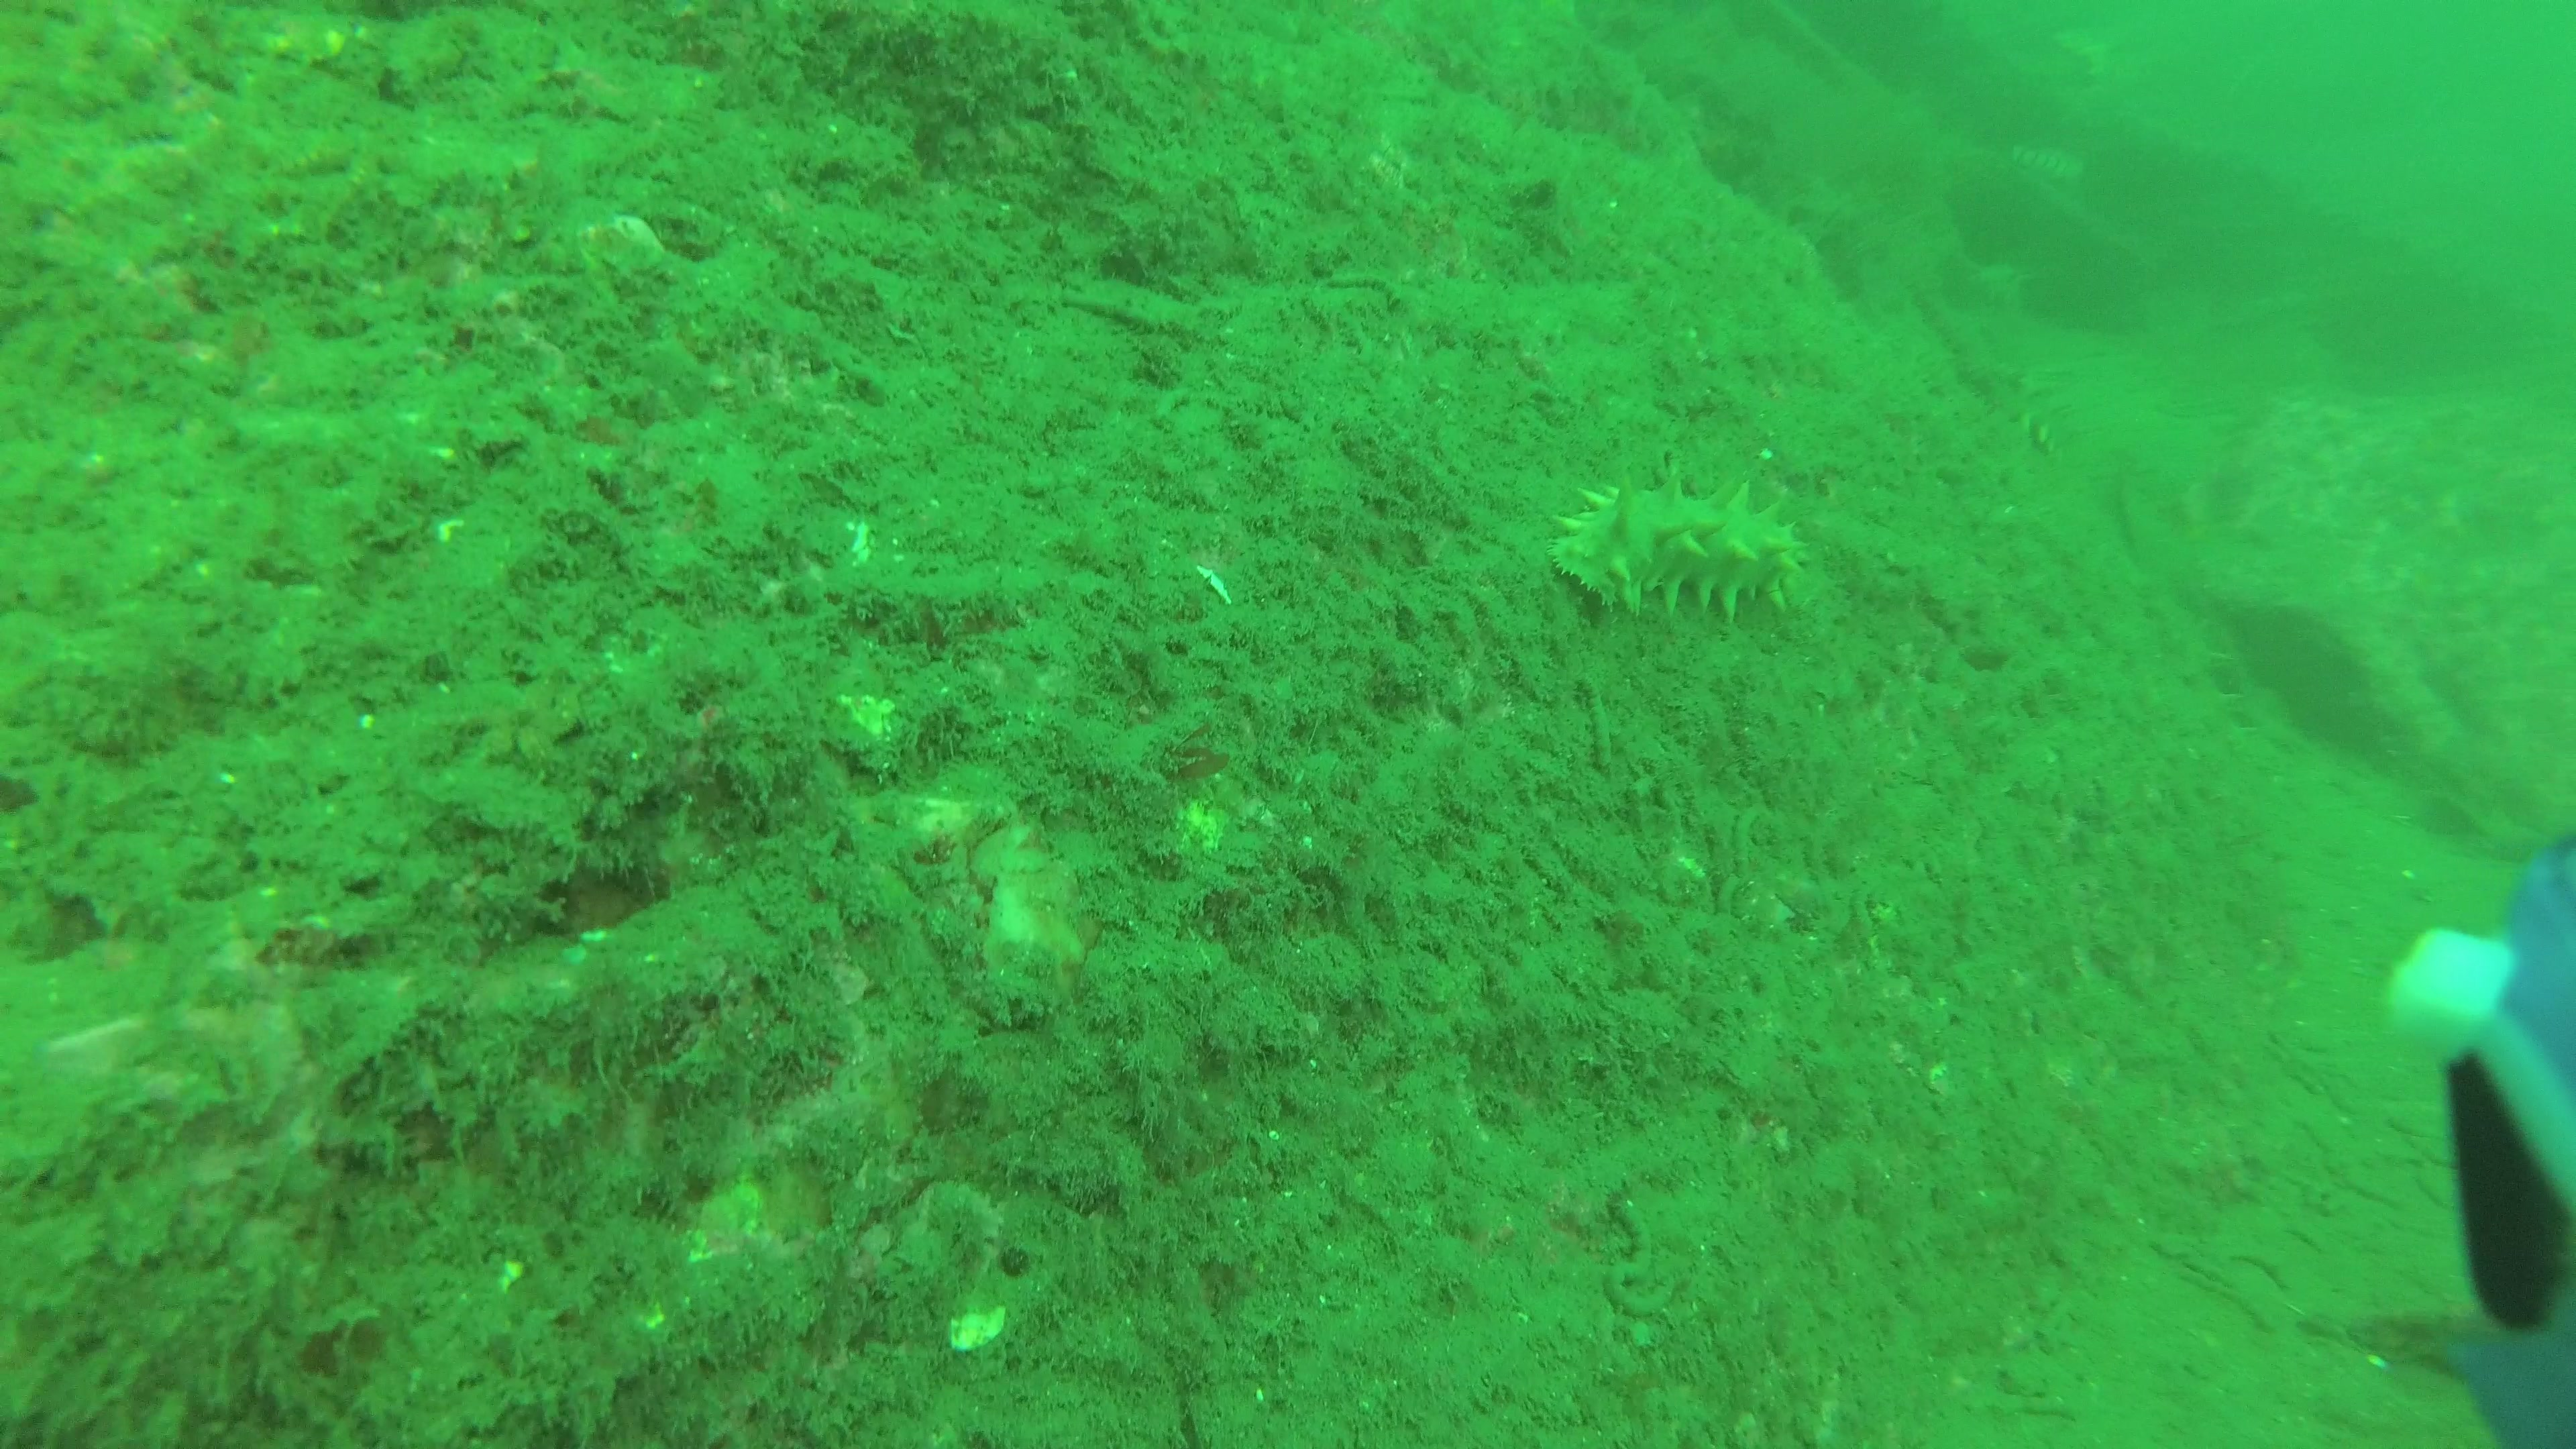holothurian: (1543, 476, 1821, 625)
